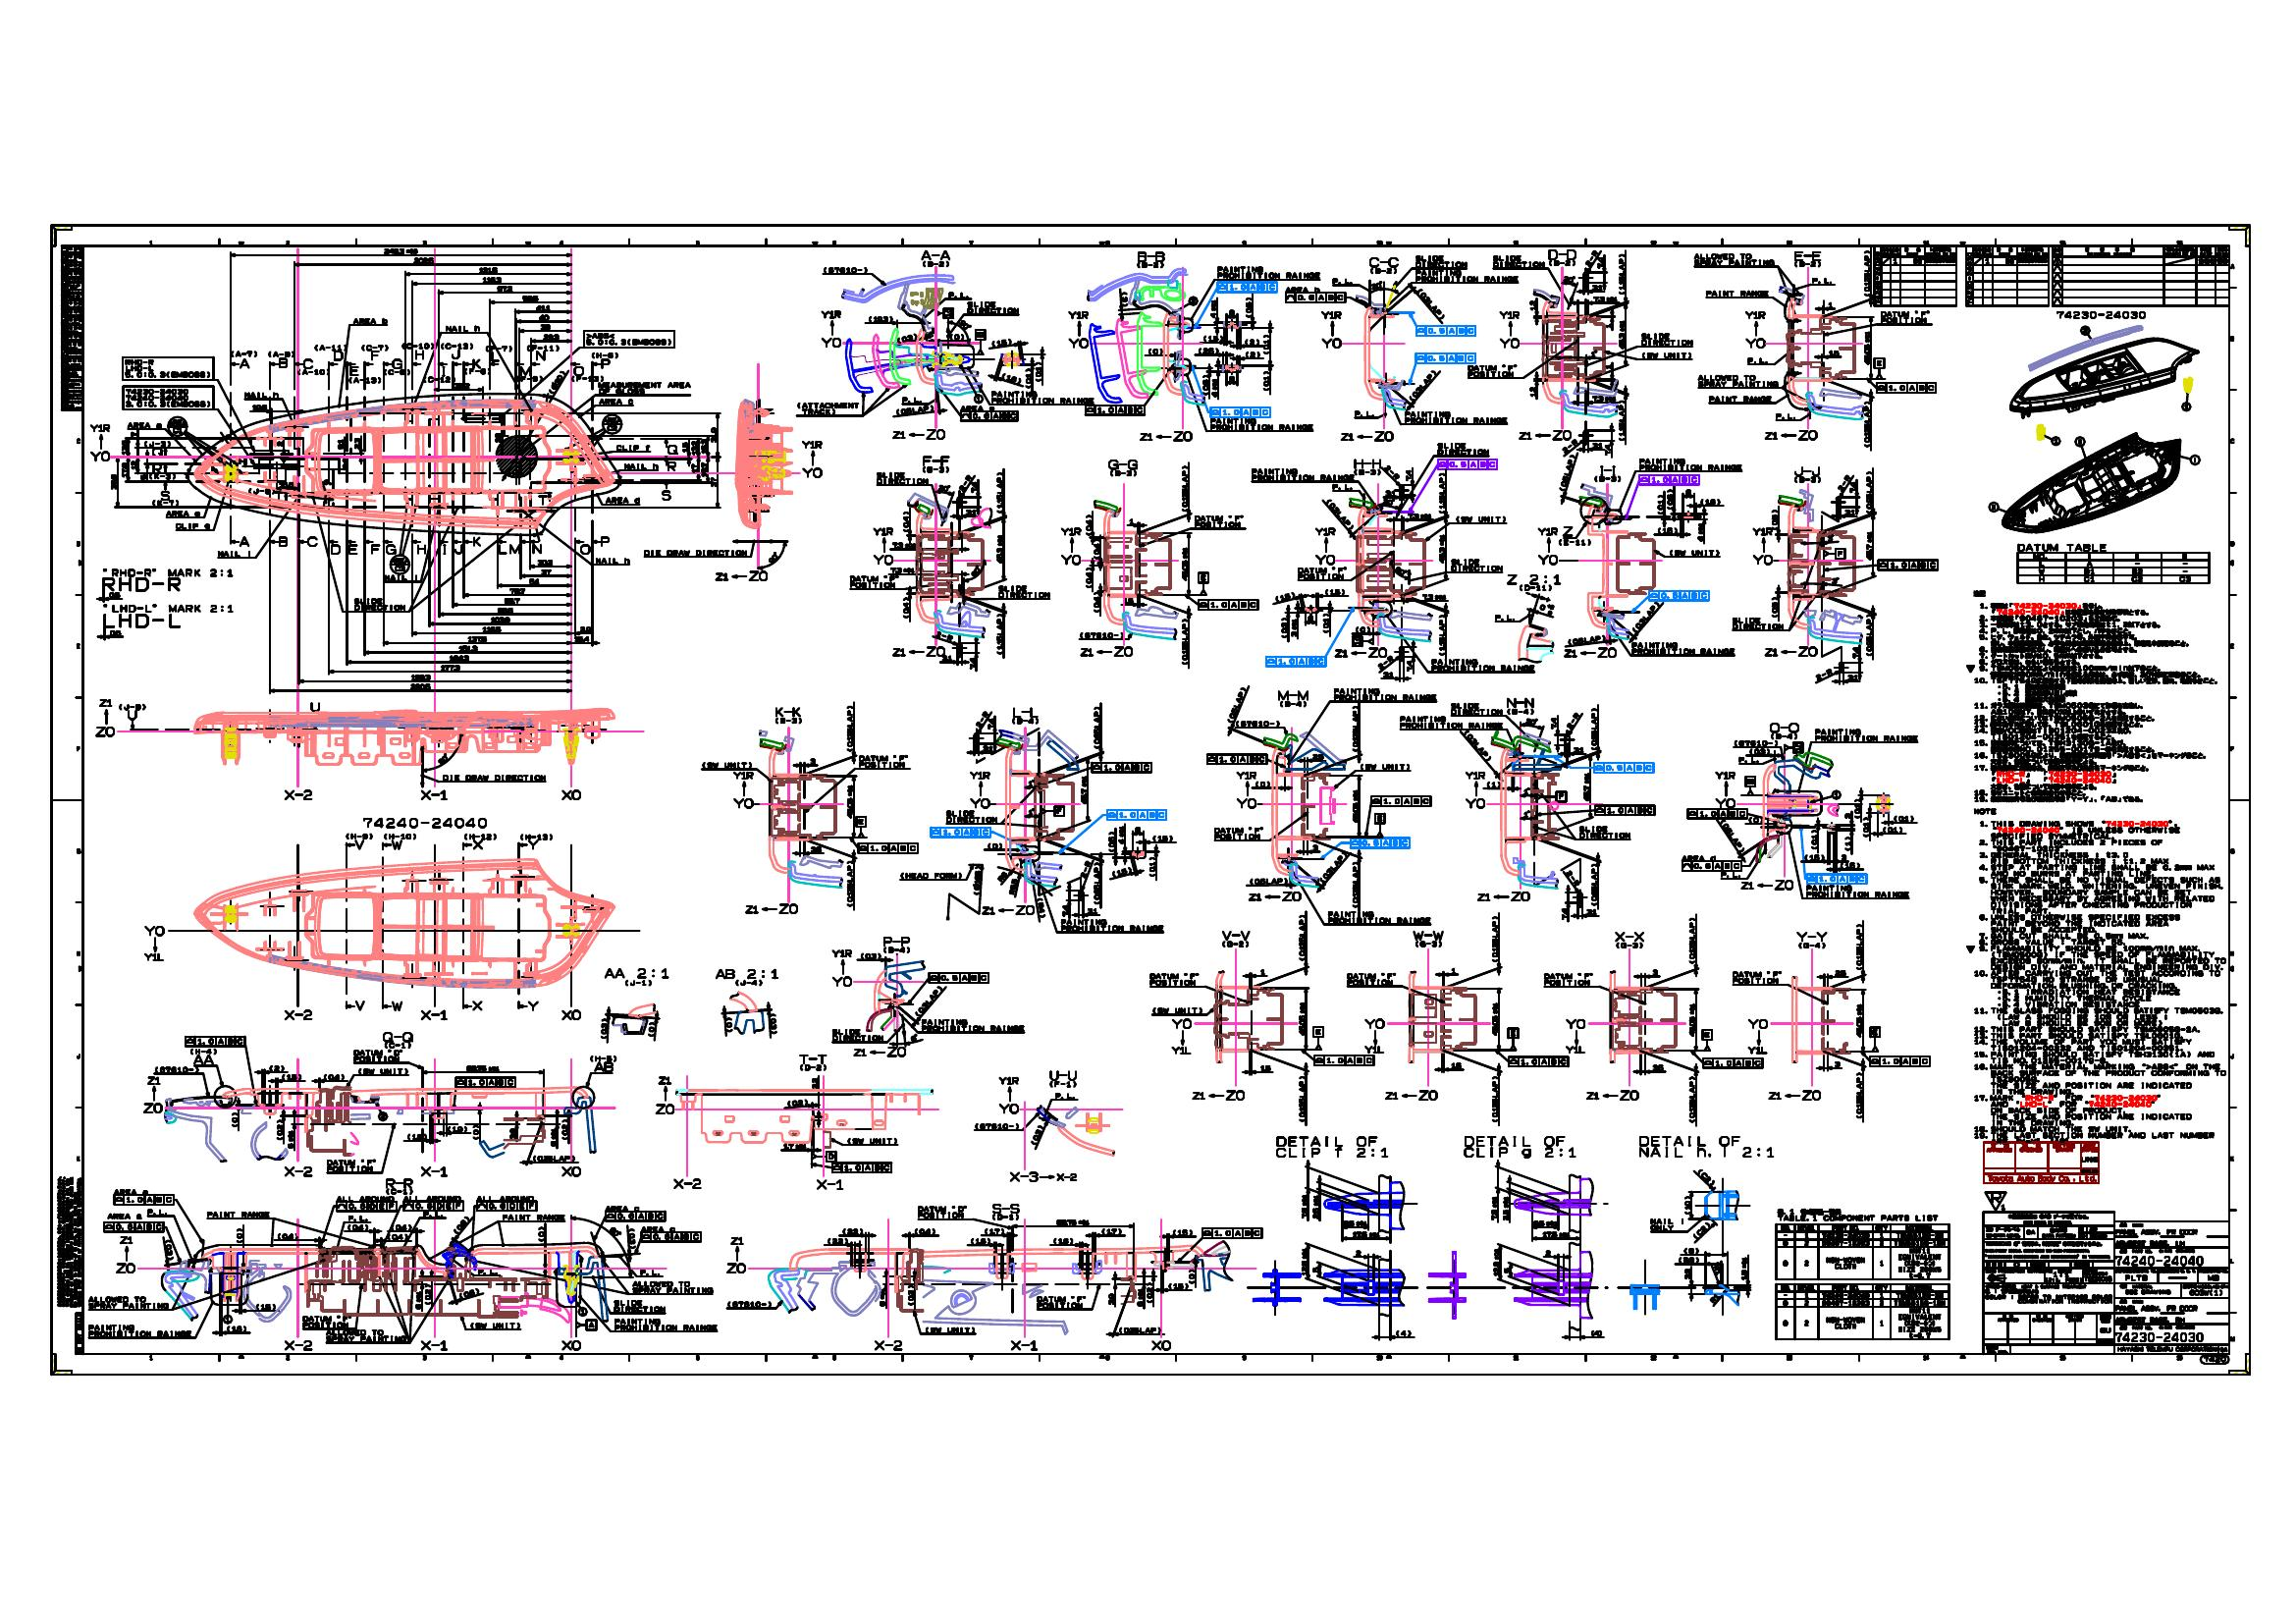anntotation_text: (1966, 589, 2226, 1141), (97, 564, 241, 640), (1639, 1135, 1774, 1158), (1463, 1134, 1578, 1158), (1274, 1135, 1390, 1158), (1776, 1207, 1938, 1222), (121, 357, 213, 380), (123, 387, 213, 408), (1216, 264, 1321, 279), (991, 388, 1093, 404), (583, 330, 675, 348), (1398, 715, 1504, 729), (1059, 917, 1165, 932), (88, 1323, 193, 1338), (1639, 457, 1743, 471), (1806, 884, 1910, 898), (1815, 728, 1918, 742), (921, 1018, 1024, 1032), (1404, 410, 1505, 424), (362, 817, 487, 828), (1326, 910, 1432, 923), (1430, 657, 1535, 670), (1209, 417, 1314, 429), (603, 967, 669, 986), (713, 967, 780, 986), (1630, 642, 1734, 654), (1333, 687, 1437, 700), (1251, 468, 1354, 480), (1414, 269, 1518, 281), (613, 1318, 717, 1330), (104, 1211, 163, 1232), (183, 1035, 246, 1055), (1284, 285, 1347, 304), (631, 1280, 713, 1294), (1697, 373, 1780, 387), (604, 1204, 666, 1222), (1681, 854, 1741, 872), (1692, 253, 1776, 265), (639, 1225, 703, 1241), (88, 1295, 169, 1308), (325, 1329, 406, 1341), (799, 439, 824, 480), (1318, 308, 1342, 348), (1505, 573, 1562, 591), (597, 381, 690, 392), (336, 1195, 397, 1211), (112, 1188, 172, 1204), (1059, 526, 1082, 566), (819, 308, 841, 348), (959, 404, 1017, 420), (1743, 311, 1767, 348), (402, 1195, 464, 1209), (93, 698, 114, 738), (1537, 526, 1558, 566), (1751, 526, 1773, 566), (114, 1234, 135, 1274), (871, 526, 892, 566), (1498, 308, 1520, 348), (90, 422, 111, 462), (1463, 772, 1486, 808), (1066, 311, 1089, 348), (1008, 1171, 1077, 1183), (476, 1195, 536, 1209), (998, 1076, 1019, 1114), (142, 1076, 163, 1114), (1314, 526, 1335, 564), (726, 1236, 747, 1274), (1730, 968, 1781, 984), (2055, 311, 2147, 320), (1715, 770, 1736, 807), (970, 772, 991, 808), (733, 772, 754, 808), (144, 924, 165, 961), (831, 949, 852, 986), (1748, 1018, 1769, 1055), (1170, 1018, 1191, 1055), (796, 401, 859, 413), (569, 360, 606, 381), (1449, 557, 1504, 571), (1639, 332, 1693, 346), (1876, 559, 1938, 571), (1237, 770, 1256, 808), (655, 1076, 675, 1114), (441, 773, 546, 780), (613, 1299, 666, 1313), (1565, 1018, 1586, 1053), (1363, 1018, 1384, 1053), (1437, 441, 1490, 455), (998, 584, 1051, 598), (1414, 253, 1467, 267), (643, 548, 747, 555), (1579, 824, 1630, 838), (947, 808, 998, 823), (1149, 972, 1200, 986), (1296, 566, 1347, 580), (1193, 513, 1244, 527), (848, 575, 899, 589), (1880, 308, 1931, 322), (1558, 526, 1592, 547), (1214, 826, 1263, 840), (1585, 1088, 1641, 1100), (302, 1313, 351, 1327), (1467, 364, 1516, 378), (917, 1204, 966, 1218), (462, 831, 497, 851), (1449, 703, 1504, 715), (1079, 645, 1133, 657), (891, 645, 945, 657), (875, 471, 929, 483), (713, 569, 768, 582), (1764, 429, 1818, 441), (1491, 255, 1546, 267), (745, 902, 798, 914), (831, 1028, 884, 1040), (854, 1046, 906, 1058), (1702, 1058, 1764, 1069), (1209, 406, 1270, 417), (966, 301, 1019, 313), (353, 598, 406, 610), (383, 831, 416, 851), (2017, 543, 2106, 550), (1806, 874, 1866, 884), (1595, 805, 1655, 816), (1593, 763, 1653, 773), (1207, 754, 1267, 765), (1107, 808, 1166, 819), (929, 826, 989, 837), (857, 842, 917, 852), (831, 1162, 891, 1172), (1265, 656, 1325, 666), (1437, 459, 1497, 469), (1198, 599, 1258, 610), (1876, 381, 1936, 392), (1217, 281, 1277, 292), (1202, 1227, 1261, 1237), (1732, 617, 1783, 629), (1346, 972, 1397, 984), (1542, 972, 1593, 984), (1412, 928, 1444, 947), (1795, 930, 1827, 949), (1509, 1056, 1567, 1067), (1107, 459, 1138, 478), (1416, 353, 1474, 364), (402, 341, 434, 360), (857, 754, 906, 766), (353, 1049, 402, 1062), (327, 1158, 376, 1171), (1383, 1090, 1439, 1100), (891, 429, 947, 439), (485, 344, 513, 366), (313, 344, 346, 362), (348, 366, 381, 383), (439, 341, 473, 359), (422, 366, 455, 383), (527, 344, 560, 362), (1036, 1295, 1084, 1308), (1049, 1069, 1079, 1088), (1247, 891, 1302, 902), (1739, 879, 1794, 889), (1476, 891, 1530, 902), (1767, 1090, 1822, 1100), (1191, 1090, 1245, 1100), (1333, 647, 1388, 657), (1339, 431, 1393, 441), (1138, 431, 1193, 441), (1563, 647, 1616, 657), (1764, 645, 1816, 656), (1277, 689, 1309, 707), (982, 905, 1035, 916), (381, 1032, 413, 1049), (1706, 288, 1769, 297), (1518, 429, 1570, 439), (1368, 257, 1400, 274), (297, 357, 329, 374), (118, 701, 146, 721), (1794, 464, 1822, 483), (344, 831, 372, 851), (882, 935, 910, 954), (1614, 930, 1643, 949), (1548, 248, 1576, 267), (1686, 808, 1748, 817), (1869, 1056, 1931, 1065), (520, 833, 553, 849), (1639, 475, 1699, 483), (1650, 591, 1709, 599), (1372, 796, 1432, 805), (1769, 722, 1799, 740), (1091, 763, 1151, 772), (798, 1053, 827, 1070), (1221, 930, 1251, 947), (1314, 1056, 1374, 1065), (455, 1077, 515, 1086), (921, 455, 950, 473), (1792, 250, 1822, 267), (1084, 406, 1144, 415), (921, 250, 950, 267), (991, 1202, 1021, 1220), (929, 972, 978, 982), (1351, 838, 1409, 847), (1416, 325, 1474, 334), (230, 350, 256, 369), (1593, 464, 1621, 482), (1012, 707, 1040, 724), (775, 707, 803, 724), (588, 1055, 617, 1072), (385, 1178, 413, 1195), (1137, 250, 1165, 267), (590, 350, 618, 367), (267, 350, 295, 367), (383, 357, 411, 374), (513, 366, 543, 381), (206, 1211, 271, 1218), (847, 1135, 898, 1144), (1505, 698, 1534, 714), (899, 872, 963, 879), (502, 1213, 566, 1220), (994, 471, 1005, 513), (167, 415, 188, 436), (360, 344, 388, 360), (388, 555, 411, 575), (149, 490, 179, 504), (149, 464, 176, 480), (144, 439, 170, 455), (464, 359, 490, 374), (603, 413, 622, 434), (1079, 631, 1124, 640), (873, 1339, 905, 1352), (1590, 707, 1599, 750), (1669, 548, 1722, 555), (1151, 1007, 1203, 1014), (469, 1322, 522, 1329), (815, 1178, 845, 1190), (673, 1178, 703, 1190), (283, 1165, 313, 1178), (283, 1339, 313, 1352), (701, 761, 752, 768), (1641, 352, 1692, 359), (924, 1325, 975, 1332), (1360, 763, 1409, 770), (358, 1067, 408, 1074), (420, 1339, 448, 1352), (420, 1165, 448, 1178), (1456, 515, 1505, 522), (1010, 1339, 1038, 1352), (1708, 395, 1773, 401), (1351, 861, 1358, 909), (1298, 914, 1305, 961), (1855, 923, 1862, 970), (1855, 1070, 1862, 1118), (1491, 1076, 1498, 1123), (1298, 1076, 1305, 1123), (1180, 617, 1188, 664), (1180, 464, 1188, 511), (1688, 1076, 1695, 1123), (604, 496, 641, 504), (216, 548, 253, 557), (1548, 468, 1585, 476), (1491, 916, 1498, 961), (822, 265, 868, 272), (283, 789, 313, 800), (283, 1009, 313, 1019), (1237, 719, 1281, 726), (596, 555, 631, 564), (727, 1301, 771, 1308), (1650, 1218, 1674, 1230), (420, 789, 448, 800), (1623, 615, 1665, 622), (1590, 863, 1597, 905), (1093, 707, 1100, 749), (1093, 861, 1100, 903), (420, 1009, 448, 1019), (532, 1155, 574, 1162), (1866, 613, 1873, 656), (1866, 471, 1873, 513), (1439, 613, 1446, 656), (1618, 399, 1625, 441), (1618, 253, 1625, 295), (1117, 1327, 1159, 1334), (1439, 473, 1446, 513), (996, 613, 1003, 654), (1216, 701, 1256, 708), (1458, 742, 1497, 749), (1249, 877, 1288, 884), (1567, 636, 1606, 643), (896, 406, 935, 413), (1314, 865, 1351, 872), (560, 1165, 581, 1178), (1321, 510, 1358, 517), (174, 522, 211, 529), (244, 390, 281, 397), (560, 1339, 581, 1352), (1151, 1339, 1172, 1352), (1351, 705, 1356, 752), (847, 859, 852, 907), (847, 705, 852, 752), (1864, 401, 1869, 448), (1688, 917, 1693, 965), (165, 510, 200, 517), (126, 422, 162, 429), (353, 316, 388, 323), (1715, 831, 1750, 838), (973, 1123, 1019, 1128), (1864, 250, 1869, 295), (624, 462, 657, 469), (383, 573, 416, 580), (599, 397, 632, 404), (155, 1065, 199, 1070), (560, 789, 581, 800), (1734, 740, 1776, 745), (560, 1009, 581, 1019), (193, 1053, 214, 1063), (615, 445, 650, 450), (466, 1065, 501, 1070), (1746, 355, 1767, 364), (444, 325, 480, 330), (659, 489, 673, 501), (639, 1269, 662, 1276), (947, 290, 970, 297), (385, 543, 397, 555), (2073, 434, 2085, 446), (585, 1318, 597, 1330), (1737, 756, 1758, 763), (1054, 1091, 1075, 1098), (146, 1207, 167, 1214), (348, 1214, 369, 1222), (1493, 613, 1514, 620), (1332, 483, 1353, 490), (1774, 413, 1795, 420), (1354, 410, 1375, 417), (901, 395, 922, 402), (1560, 441, 1579, 448), (1581, 255, 1600, 262), (666, 445, 678, 455), (239, 534, 249, 547), (278, 534, 288, 547), (306, 534, 316, 547), (330, 543, 341, 555), (2189, 453, 2201, 464), (390, 1000, 402, 1011), (471, 1000, 483, 1011), (527, 1000, 539, 1011), (1702, 1028, 1713, 1040), (824, 1151, 836, 1162), (599, 534, 610, 547), (416, 543, 427, 555), (508, 543, 520, 554), (422, 1211, 444, 1216), (309, 700, 320, 710), (2180, 401, 2191, 411), (2050, 434, 2061, 445), (1989, 501, 1999, 511), (1720, 872, 1741, 877), (1792, 742, 1802, 752), (1744, 775, 1755, 786), (856, 816, 866, 826), (355, 1000, 365, 1011), (1507, 1026, 1518, 1037), (1869, 1026, 1880, 1037), (1312, 1026, 1323, 1037), (1188, 295, 1198, 306), (580, 543, 590, 554), (1873, 357, 1883, 367), (1811, 278, 1832, 283), (1332, 278, 1353, 283), (973, 394, 984, 404), (531, 543, 541, 554), (476, 1269, 497, 1274), (1830, 789, 1841, 800), (348, 543, 357, 555), (1351, 636, 1363, 645), (497, 543, 506, 555), (666, 462, 676, 471), (371, 543, 379, 554), (1374, 814, 1384, 823), (2080, 325, 2090, 334), (1834, 548, 1845, 557), (223, 1313, 232, 1323), (1198, 573, 1207, 584), (942, 308, 952, 316), (975, 330, 986, 339), (473, 536, 481, 547), (538, 494, 546, 504), (378, 1111, 388, 1120), (1054, 807, 1063, 816), (1556, 791, 1565, 800), (578, 1308, 587, 1316), (455, 543, 462, 554), (441, 543, 446, 555)
dimension_text: (1565, 712, 1581, 729), (1412, 301, 1451, 308), (1404, 381, 1440, 388), (973, 865, 982, 893), (1180, 547, 1188, 582), (1056, 1218, 1091, 1225), (1298, 1000, 1305, 1035), (1855, 1002, 1862, 1037), (1491, 1002, 1498, 1035), (1688, 1002, 1695, 1035), (1384, 464, 1400, 478), (996, 533, 1003, 564), (1080, 773, 1087, 805), (1491, 1246, 1498, 1276), (1351, 1230, 1381, 1237), (1583, 772, 1590, 801), (1036, 898, 1047, 917), (1866, 531, 1873, 559), (1618, 320, 1625, 348), (1300, 1248, 1307, 1276), (975, 710, 987, 726), (1567, 868, 1579, 884), (889, 566, 915, 573), (847, 784, 852, 819), (1657, 526, 1678, 534), (1279, 617, 1288, 638), (1325, 587, 1346, 596), (1354, 468, 1381, 475), (1864, 330, 1869, 366), (991, 337, 1012, 346), (543, 378, 569, 385), (383, 248, 418, 253), (1532, 1220, 1558, 1227), (165, 1239, 174, 1260), (560, 1118, 569, 1139), (1353, 789, 1358, 823), (891, 541, 915, 548), (1421, 592, 1446, 599), (868, 315, 892, 322), (1490, 1195, 1497, 1220), (1300, 1193, 1307, 1218), (1274, 592, 1293, 601), (1091, 540, 1100, 559), (1683, 1195, 1692, 1214), (901, 594, 908, 617), (439, 664, 462, 671), (1699, 497, 1722, 504), (1093, 591, 1100, 613), (1244, 295, 1251, 318), (1200, 334, 1223, 341), (1000, 374, 1022, 381), (1739, 1257, 1746, 1280), (913, 1227, 936, 1234), (1802, 852, 1825, 859), (936, 631, 954, 640), (1008, 877, 1017, 895), (1080, 859, 1089, 877), (466, 634, 487, 642), (457, 643, 478, 650), (409, 682, 430, 689), (1771, 508, 1778, 529), (1665, 489, 1672, 510), (1657, 494, 1664, 515), (1084, 566, 1091, 587), (1084, 513, 1091, 534), (1147, 856, 1154, 877), (1107, 830, 1114, 851), (1263, 334, 1270, 355), (1024, 367, 1031, 388), (896, 334, 917, 341), (520, 295, 541, 302), (1145, 1281, 1152, 1302), (984, 1227, 1005, 1234), (841, 1227, 863, 1234), (255, 1302, 276, 1309), (281, 1074, 302, 1081), (406, 1134, 427, 1141), (448, 1125, 469, 1132), (1809, 828, 1816, 849), (1881, 826, 1903, 833), (1853, 798, 1860, 819), (1592, 295, 1618, 301), (1542, 1232, 1569, 1237), (606, 1227, 622, 1236), (782, 1142, 808, 1148), (411, 673, 430, 680), (1323, 613, 1330, 633), (1112, 868, 1131, 875), (1209, 299, 1216, 318), (1263, 371, 1270, 390), (1198, 346, 1217, 353), (1035, 362, 1042, 381), (451, 381, 471, 388), (478, 265, 497, 272), (1697, 1172, 1716, 1179), (1101, 1227, 1121, 1234), (906, 1285, 913, 1304), (629, 1229, 636, 1248), (423, 1285, 430, 1304), (415, 1290, 422, 1309), (278, 1232, 297, 1239), (276, 1120, 283, 1139), (1033, 1125, 1040, 1144), (1750, 747, 1769, 754), (1592, 395, 1616, 401), (1504, 1195, 1509, 1220), (1342, 1220, 1367, 1225), (1312, 1195, 1318, 1220), (710, 425, 717, 443), (1117, 826, 1124, 844), (495, 285, 513, 292), (543, 332, 560, 339), (1395, 1329, 1412, 1336), (1407, 513, 1430, 518), (1151, 835, 1173, 840), (1166, 1283, 1189, 1288), (826, 1237, 848, 1243), (903, 510, 908, 531), (538, 559, 553, 566), (504, 598, 520, 605), (490, 617, 511, 622), (121, 462, 128, 478), (1771, 596, 1776, 617), (1086, 907, 1101, 914), (949, 332, 964, 339), (413, 257, 434, 262), (481, 276, 502, 281), (690, 439, 697, 455), (699, 438, 706, 453), (1683, 1246, 1699, 1253), (1678, 1257, 1699, 1262), (1188, 1269, 1195, 1285), (1172, 1229, 1193, 1234), (1052, 1237, 1073, 1243), (970, 1237, 991, 1243), (458, 1290, 480, 1295), (390, 1223, 411, 1229), (386, 1234, 408, 1239), (235, 1227, 242, 1243), (230, 1111, 237, 1127), (323, 1074, 344, 1079), (787, 1098, 808, 1104), (1843, 835, 1850, 851), (1894, 816, 1915, 821), (1748, 816, 1764, 823), (483, 626, 502, 631), (1697, 522, 1702, 541), (1212, 378, 1217, 397), (1203, 374, 1209, 394), (1137, 1288, 1142, 1308), (227, 1325, 246, 1330), (1841, 861, 1860, 866), (1254, 780, 1274, 786), (539, 568, 553, 575), (1405, 468, 1412, 482), (1244, 337, 1258, 344), (1245, 350, 1260, 357), (538, 1227, 545, 1241), (473, 1125, 480, 1139), (1525, 717, 1539, 724), (970, 566, 980, 575), (508, 587, 525, 592), (111, 473, 116, 490), (998, 872, 1007, 882), (812, 844, 822, 852), (1815, 671, 1832, 677), (1834, 480, 1852, 485), (1375, 659, 1393, 664), (701, 460, 706, 478), (506, 1127, 515, 1137), (550, 1128, 555, 1146), (353, 438, 360, 450), (1852, 647, 1859, 659), (1528, 299, 1535, 311), (1562, 274, 1574, 281), (538, 313, 550, 320), (682, 441, 689, 453), (1683, 1267, 1690, 1280), (1590, 1329, 1602, 1336), (1107, 1292, 1114, 1304), (1834, 968, 1846, 975), (497, 608, 513, 613), (1354, 626, 1370, 631), (1291, 619, 1296, 634), (987, 842, 1003, 847), (1147, 348, 1163, 353), (1123, 290, 1128, 306), (251, 404, 267, 410), (878, 1290, 884, 1306), (269, 1065, 285, 1070), (346, 1225, 369, 1229), (938, 483, 949, 490), (574, 636, 588, 642), (529, 576, 539, 584), (448, 656, 469, 659), (337, 439, 344, 450), (121, 439, 126, 453), (1846, 673, 1857, 680), (1592, 441, 1602, 448), (1528, 387, 1535, 397), (1372, 281, 1383, 288), (536, 304, 550, 309), (539, 323, 550, 330), (690, 462, 697, 473), (1451, 1062, 1462, 1069), (1864, 816, 1867, 837), (1486, 780, 1500, 786), (1549, 715, 1555, 729), (970, 657, 975, 670), (942, 654, 954, 659), (1405, 659, 1411, 671), (1597, 257, 1602, 269), (812, 1077, 817, 1090), (1260, 1065, 1272, 1070), (1572, 747, 1585, 752), (1585, 909, 1597, 914), (1312, 752, 1325, 758), (980, 747, 993, 752), (1845, 508, 1853, 515), (1059, 905, 1066, 914), (1133, 824, 1142, 831), (1260, 968, 1268, 975), (1651, 968, 1660, 975), (580, 626, 590, 631), (1850, 482, 1855, 492), (1383, 671, 1393, 677), (989, 719, 994, 729), (1829, 350, 1839, 355), (1592, 283, 1602, 288), (971, 482, 977, 492), (1653, 1063, 1664, 1069), (1560, 907, 1565, 917), (130, 431, 137, 438), (130, 462, 137, 469), (808, 758, 815, 765), (1128, 517, 1135, 524), (1827, 301, 1834, 308), (1354, 1250, 1361, 1257), (710, 478, 715, 487), (966, 508, 975, 513), (1546, 1250, 1551, 1257), (1312, 1265, 1318, 1272), (1451, 967, 1456, 974), (1834, 1060, 1839, 1067), (1841, 852, 1846, 859), (1504, 1267, 1509, 1272), (1845, 812, 1850, 817), (1312, 844, 1318, 849)
object: (186, 392, 622, 534), (193, 856, 617, 990), (766, 1239, 1233, 1336), (160, 1241, 608, 1338), (162, 1084, 597, 1164), (1516, 482, 1693, 664), (193, 707, 615, 766), (1426, 1176, 1593, 1320), (841, 272, 1022, 397), (1084, 265, 1242, 404), (1245, 1179, 1407, 1308), (1303, 497, 1435, 645), (2001, 431, 2182, 533), (2008, 323, 2199, 418), (1755, 750, 1892, 863), (1776, 489, 1866, 649), (680, 1088, 935, 1144), (993, 728, 1080, 889), (757, 729, 845, 889), (1627, 1190, 1741, 1311), (1263, 731, 1349, 891), (906, 490, 993, 638), (1091, 497, 1179, 642), (1776, 283, 1864, 422), (1532, 286, 1621, 418), (1490, 729, 1560, 889), (736, 397, 799, 529), (1354, 292, 1414, 413), (1607, 968, 1679, 1063), (1214, 968, 1284, 1065), (1407, 970, 1477, 1063), (1790, 975, 1852, 1063), (866, 958, 924, 1033), (1036, 1104, 1116, 1158), (729, 991, 764, 1035), (611, 1002, 655, 1035)
title_block: (1983, 1211, 2229, 1353), (2052, 244, 2229, 306), (1776, 1283, 1948, 1339), (1776, 1223, 1950, 1278), (2017, 554, 2210, 584), (1874, 246, 1957, 306), (1966, 246, 2048, 306), (1983, 1141, 2099, 1183), (61, 244, 83, 411)
